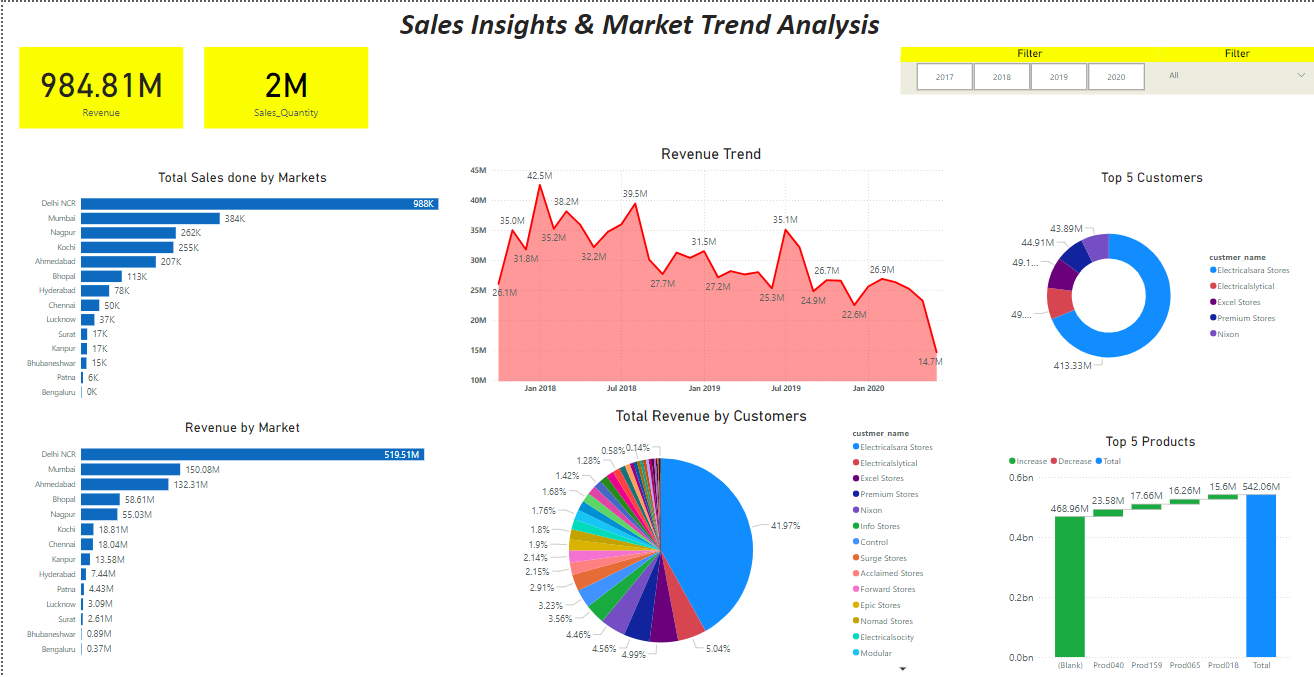

The dashboard page shown, as its layout file describes it:
{"tool":"powerbi","page":{"name":"Page 1","canvas":[2100,1080],"ordinal":0},"visuals":[{"type":"card","fields":{"Values":["Base_measures.Revenue"]},"box":[26,72,262,130],"z":0},{"type":"card","fields":{"Values":["Base_measures.Sales_Quantity"]},"box":[322,72,262,130],"z":1000},{"type":"clusteredBarChart","title":"Revenue by Market","fields":{"Category":["sales markets.markets_name"],"Y":["Base_measures.Revenue"]},"box":[26,668,714,392],"z":2000},{"type":"pieChart","title":"Total Revenue by Customers","fields":{"Category":["sales customers.custmer_name"],"Y":["Base_measures.Revenue"]},"box":[742,648,782,432],"z":3000},{"type":"slicer","title":"Filter ","fields":{"Values":["sales date.year"]},"box":[1436,72,414,76],"z":4000},{"type":"slicer","title":"Filter ","fields":{"Values":["sales date.cy_date"]},"box":[1850,72,250,76],"z":5000},{"type":"clusteredBarChart","title":"Total Sales done by Markets","fields":{"Y":["Base_measures.Sales_Quantity"],"Category":["sales markets.markets_name"]},"box":[26,268,714,380],"z":6000},{"type":"donutChart","title":"Top 5 Customers","fields":{"Category":["sales customers.custmer_name"],"Y":["Base_measures.Revenue"]},"box":[1604,268,464,380],"z":7000},{"type":"waterfallChart","title":"Top 5 Products","fields":{"Category":["sales products.product_code"],"Y":["Base_measures.Revenue"]},"box":[1604,690,464,390],"z":8000},{"type":"lineChart","title":"Revenue Trend","fields":{"Y":["Base_measures.Revenue"],"Category":["sales date.cy_date.Variation.Date Hierarchy.Year","sales date.cy_date.Variation.Date Hierarchy.Quarter","sales date.cy_date.Variation.Date Hierarchy.Month","sales date.cy_date.Variation.Date Hierarchy.Day"]},"box":[742,228,782,408],"z":9000},{"type":"textbox","box":[602,0,834,86],"z":10000}]}

Visuals, with their boxes in screenshot pixels (x1, y1, x2, y2), scaled from the page's 2100x1080 canvas onto the 1314x677 screenshot:
card - Base_measures.Revenue: detection(16, 45, 180, 127)
card - Base_measures.Sales_Quantity: detection(201, 45, 365, 127)
"Revenue by Market" clusteredBarChart: detection(16, 419, 463, 664)
"Total Revenue by Customers" pieChart: detection(464, 406, 954, 676)
"Filter " slicer: detection(899, 45, 1158, 93)
"Filter " slicer: detection(1158, 45, 1313, 93)
"Total Sales done by Markets" clusteredBarChart: detection(16, 168, 463, 406)
"Top 5 Customers" donutChart: detection(1004, 168, 1294, 406)
"Top 5 Products" waterfallChart: detection(1004, 433, 1294, 676)
"Revenue Trend" lineChart: detection(464, 143, 954, 399)
textbox: detection(377, 0, 899, 54)
